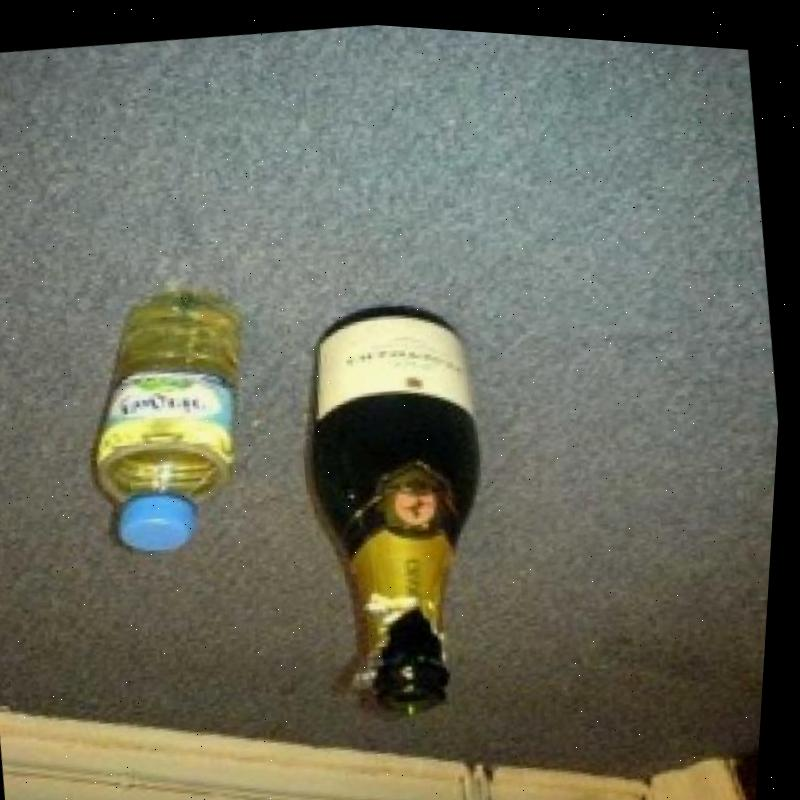botella: (73, 281, 278, 561)
